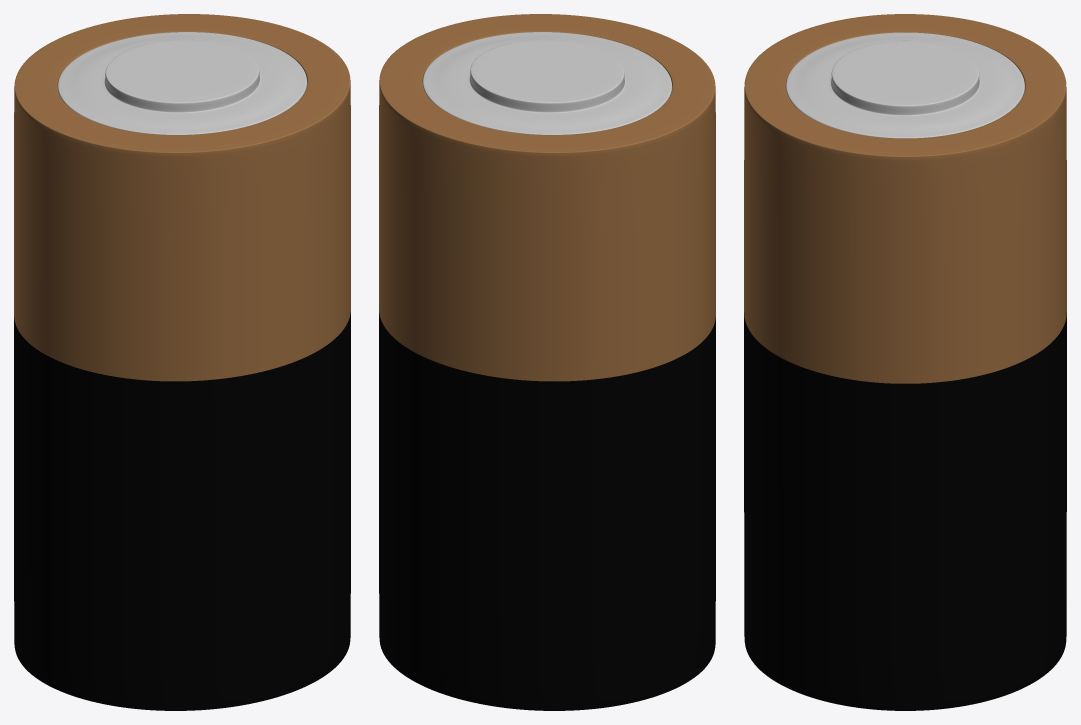
The model's file is batteryFat.fbx.
3 renders of one model, left to right at view 1: azimuth 30°, elevation 25°; view 2: azimuth 150°, elevation 25°; view 3: azimuth 270°, elevation 25°, orthographic.
Visible parts, largest first — view 1: Cylinder.005, Cylinder.004; view 2: Cylinder.005, Cylinder.004; view 3: Cylinder.005, Cylinder.004.
Part boxes in pixels (bbox=[...]): Cylinder.005: bbox=[14, 14, 350, 710]; Cylinder.004: bbox=[57, 32, 307, 134]; Cylinder.005: bbox=[379, 14, 715, 710]; Cylinder.004: bbox=[422, 32, 672, 134]; Cylinder.005: bbox=[744, 14, 1066, 710]; Cylinder.004: bbox=[786, 32, 1024, 138].
Bounding box in the file's own units: 411 × 759 × 392.
